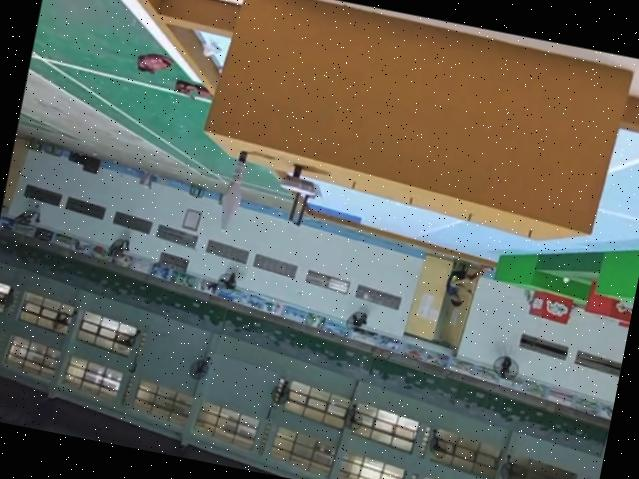Hand: (280, 161, 321, 196)
Sph: (214, 148, 253, 232)
